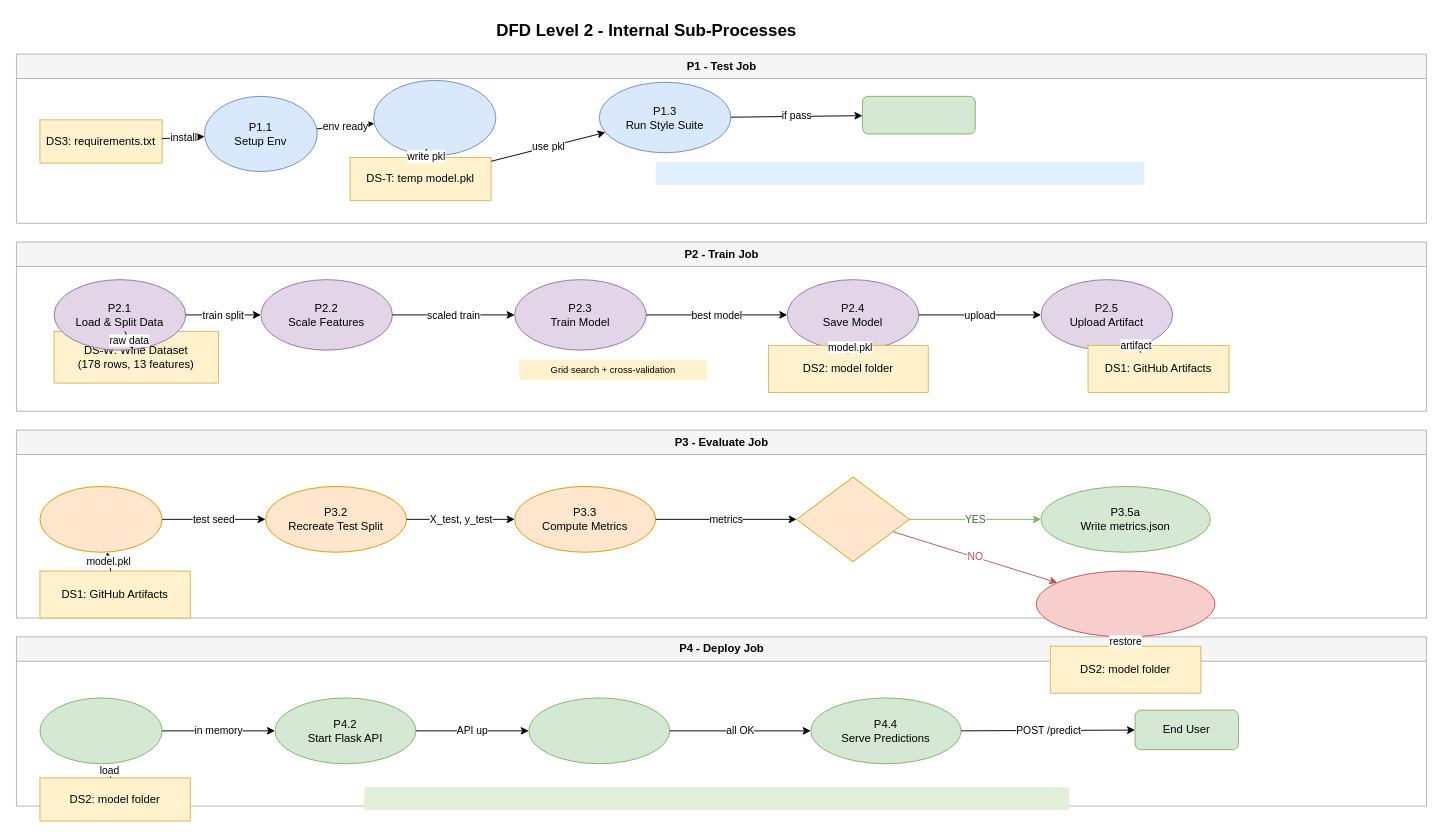
Image size: 1443x838. Some labels were removed from this diagram. The centre of each missing label's shape, as x and y in pixels:
"API: /health, /model-info, /metrics, /predict" belongs at pixel 716 798.
"Artifacts: model.pkl, metrics, logs" belongs at pixel 899 173.
"P1.2 Quick Train" belongs at pixel 434 117.
"P3.1 Download Artifact" belongs at pixel 100 519.
"P3.4 Accuracy >= 0.82?" belongs at pixel 852 519.
"P3.5b Roll Back Model" belongs at pixel 1125 603.
"P4.1 Load Model" belongs at pixel 100 730.
"P4.3 Smoke Test" belongs at pixel 599 730.
"Pass -> P2" belongs at pixel 918 114.
